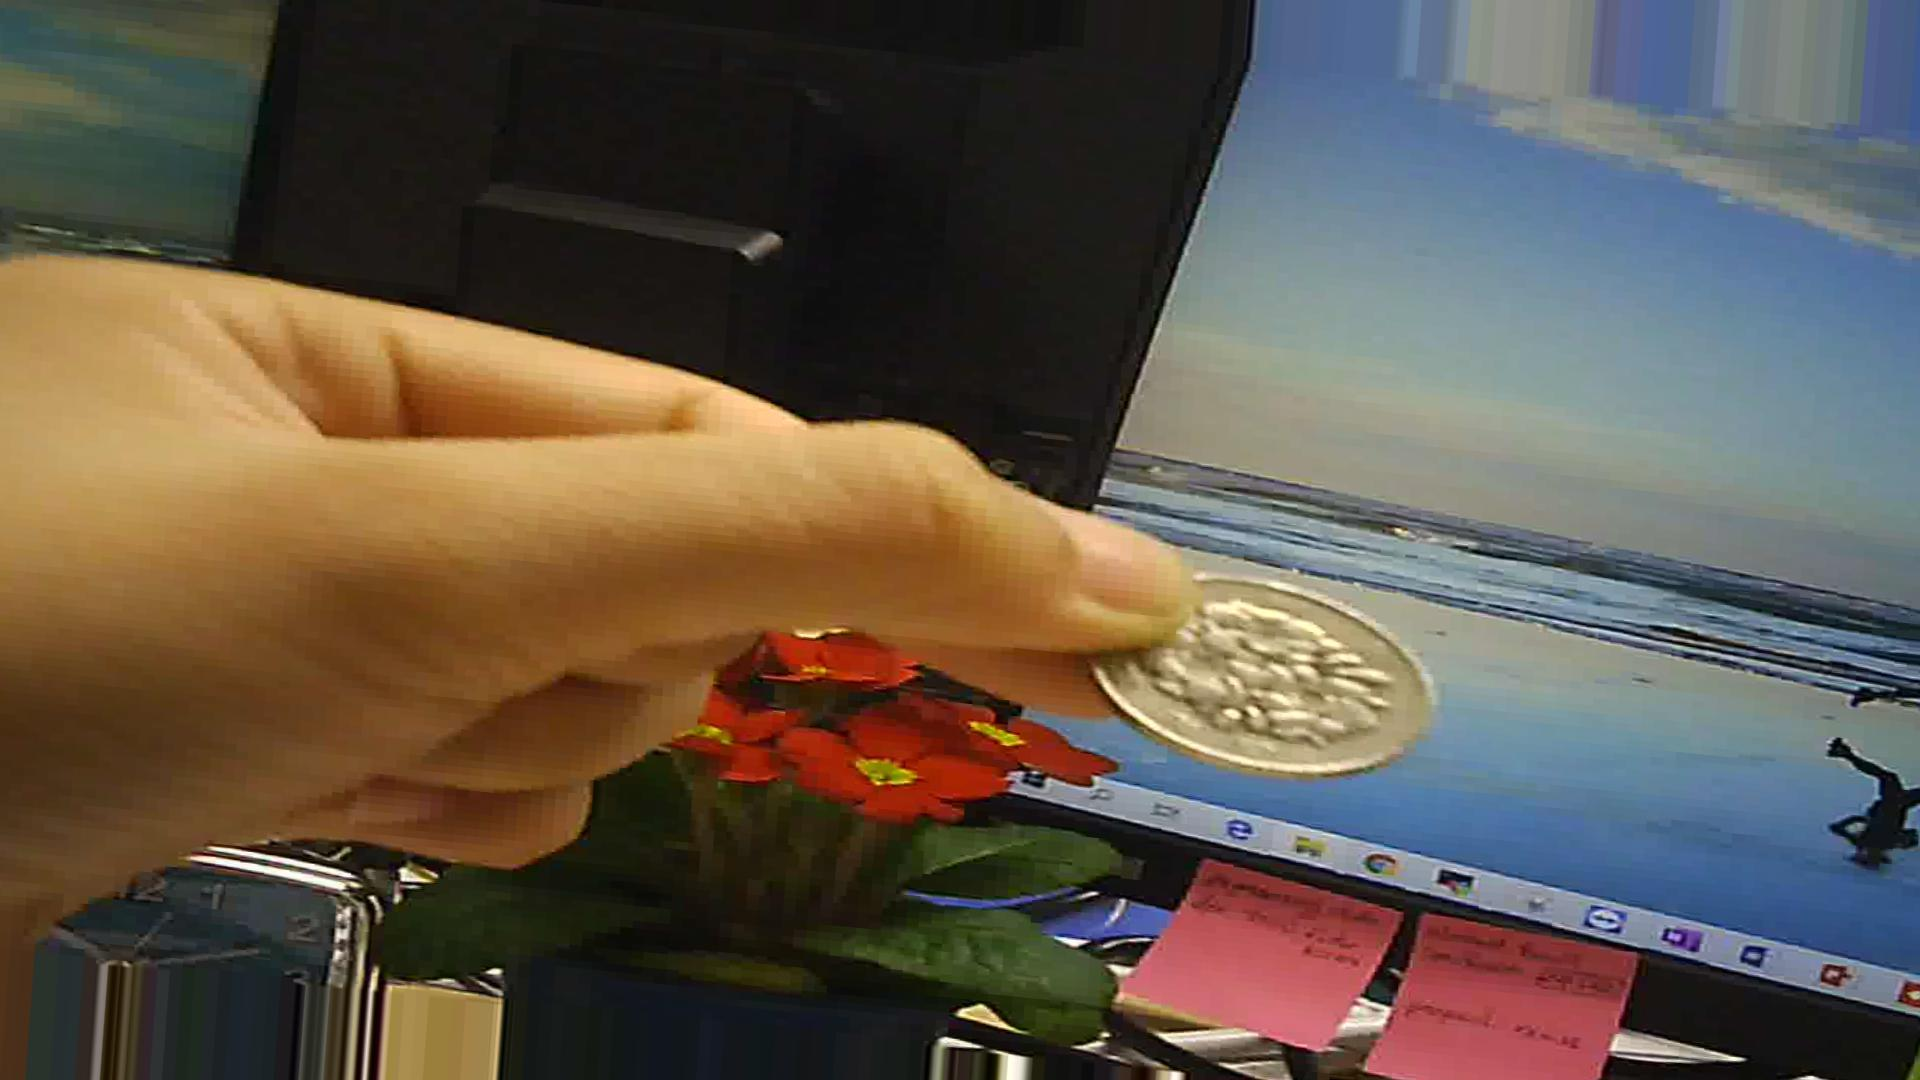100 Yen: (1058, 550, 1437, 799)
